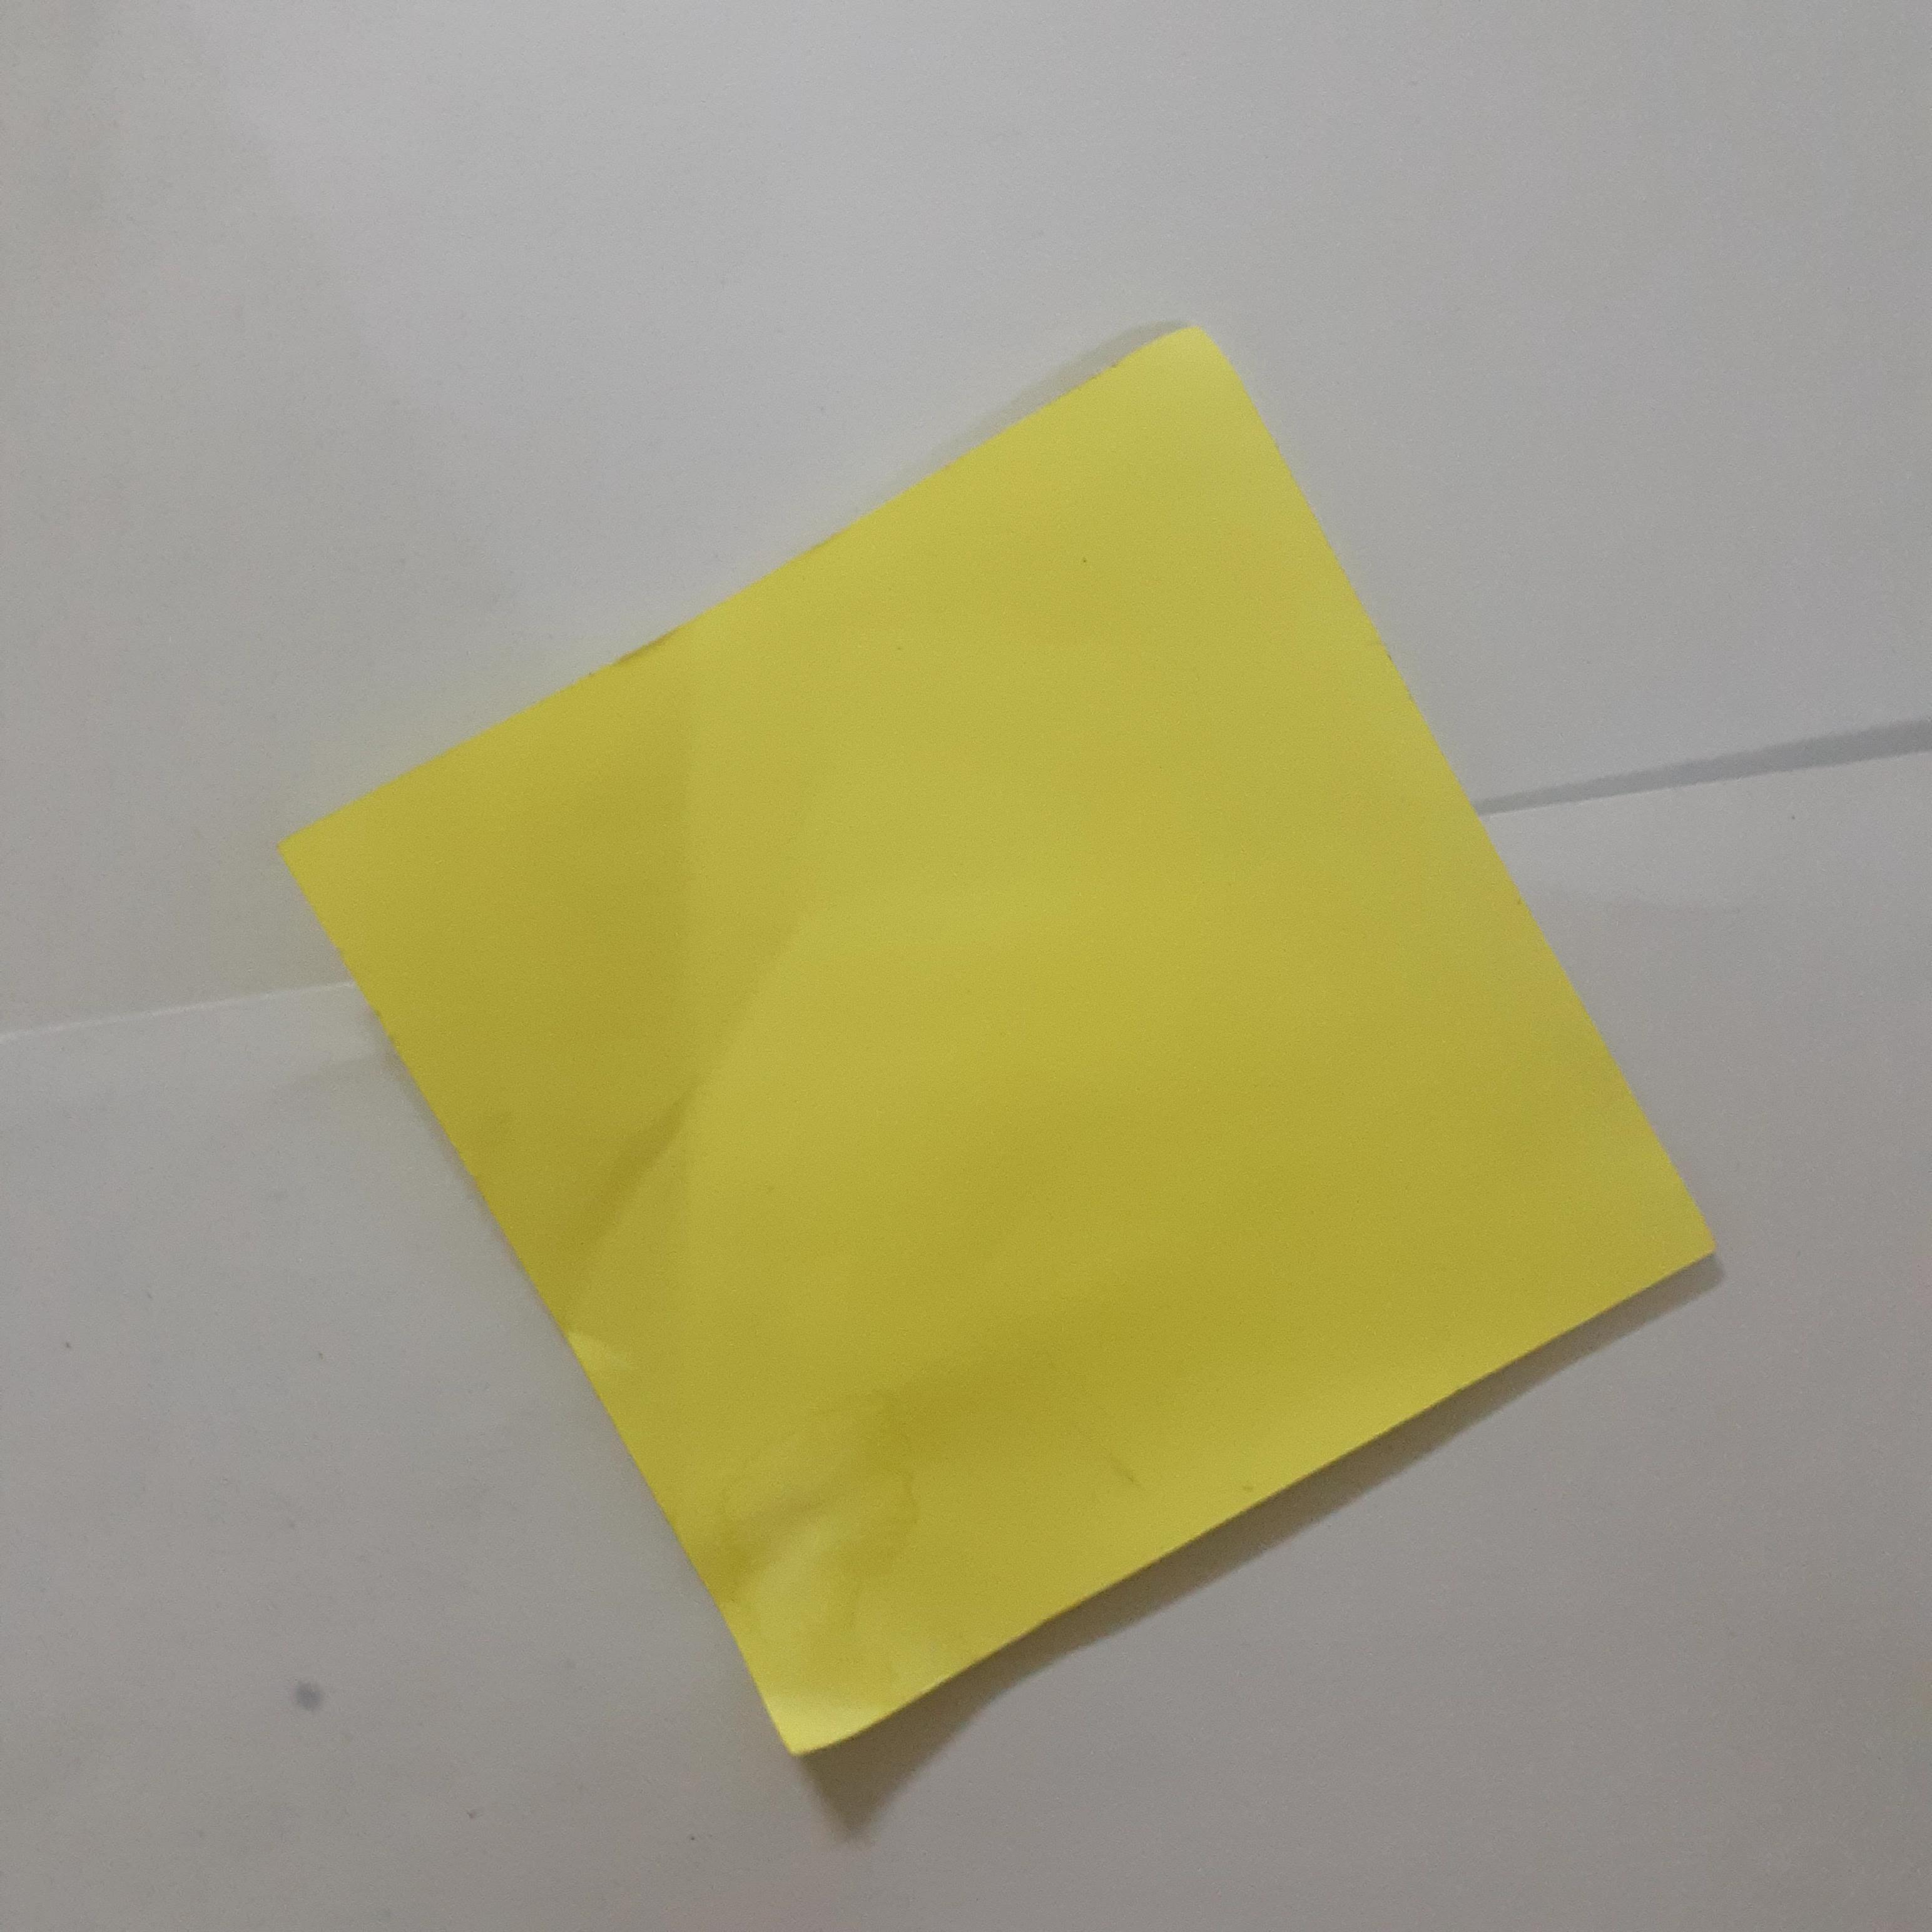Paper: (333, 336, 1812, 1631)
